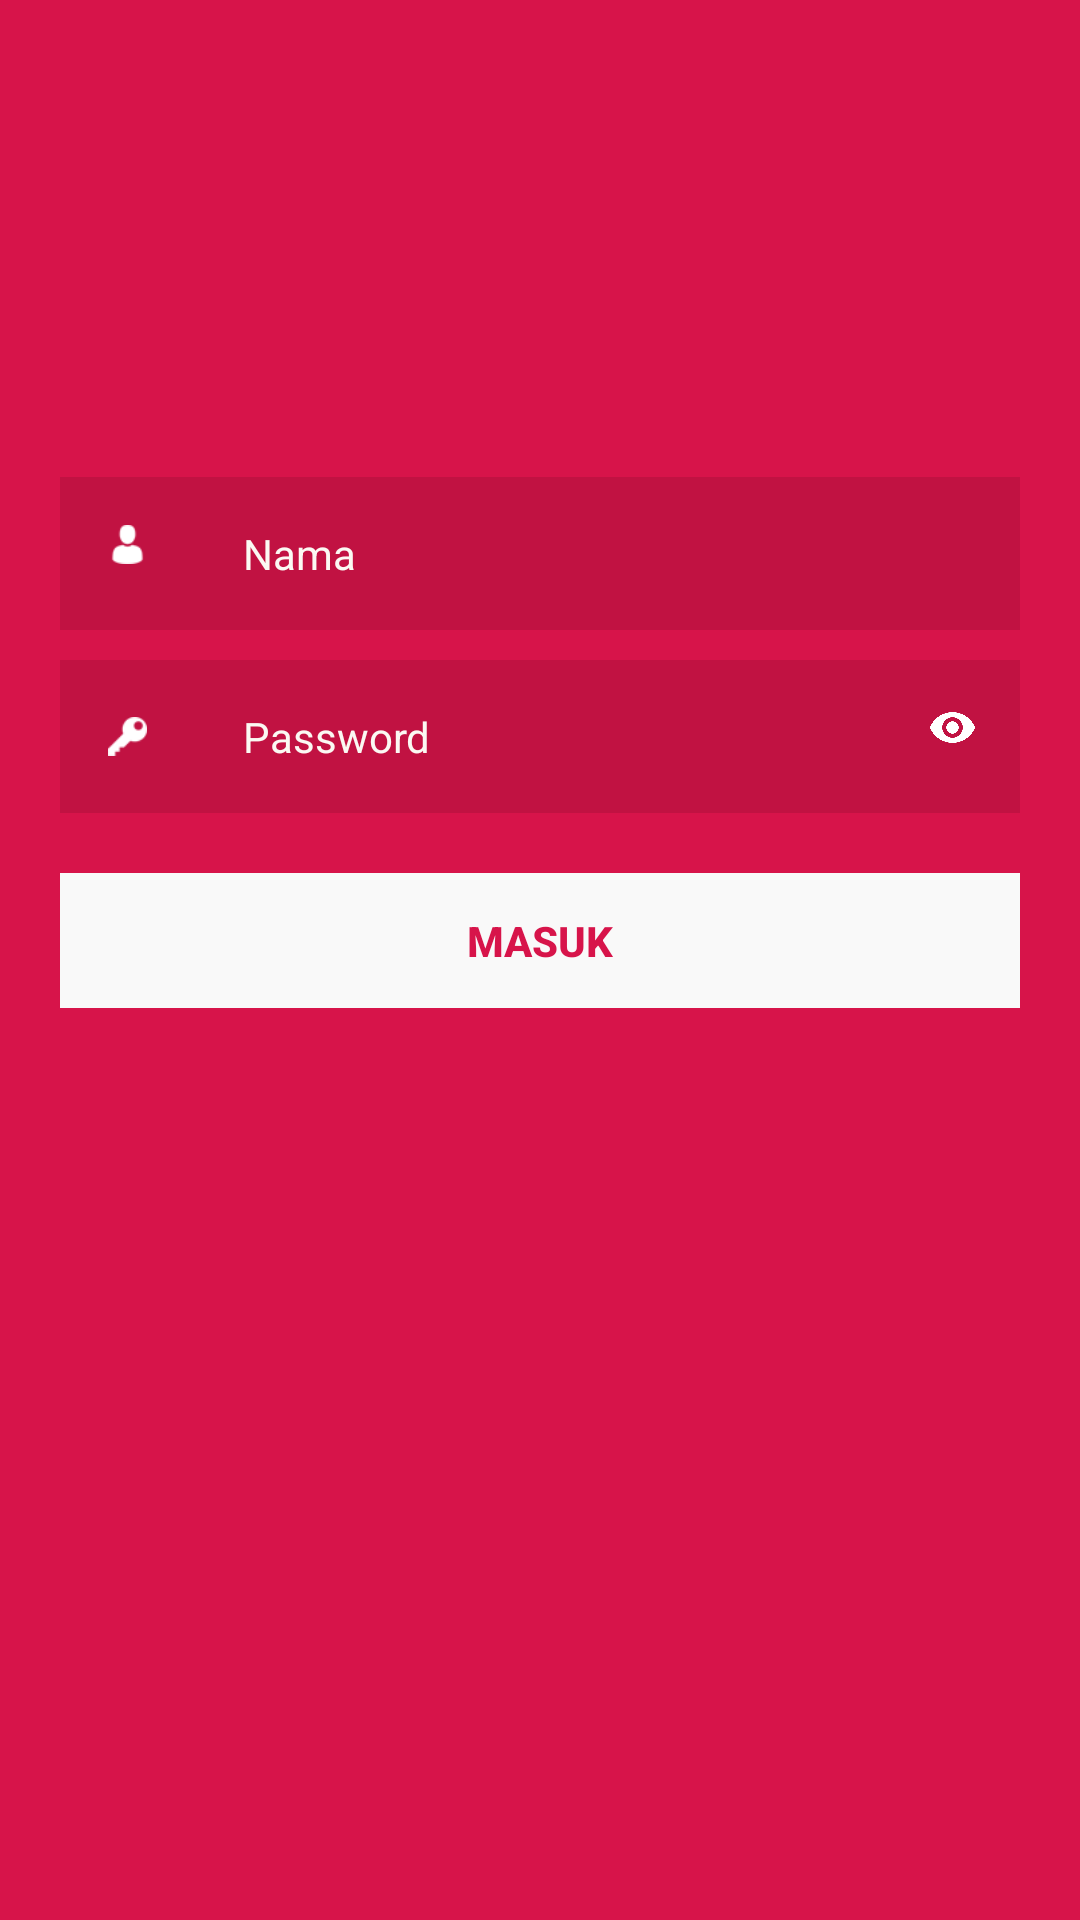

Where icons sit on this 1080*1920 app screen, as bbox=(x1, y1, x2, y2):
key: bbox=(108, 717, 147, 756)
person: bbox=(112, 525, 143, 564)
visible: bbox=(930, 712, 975, 743)
